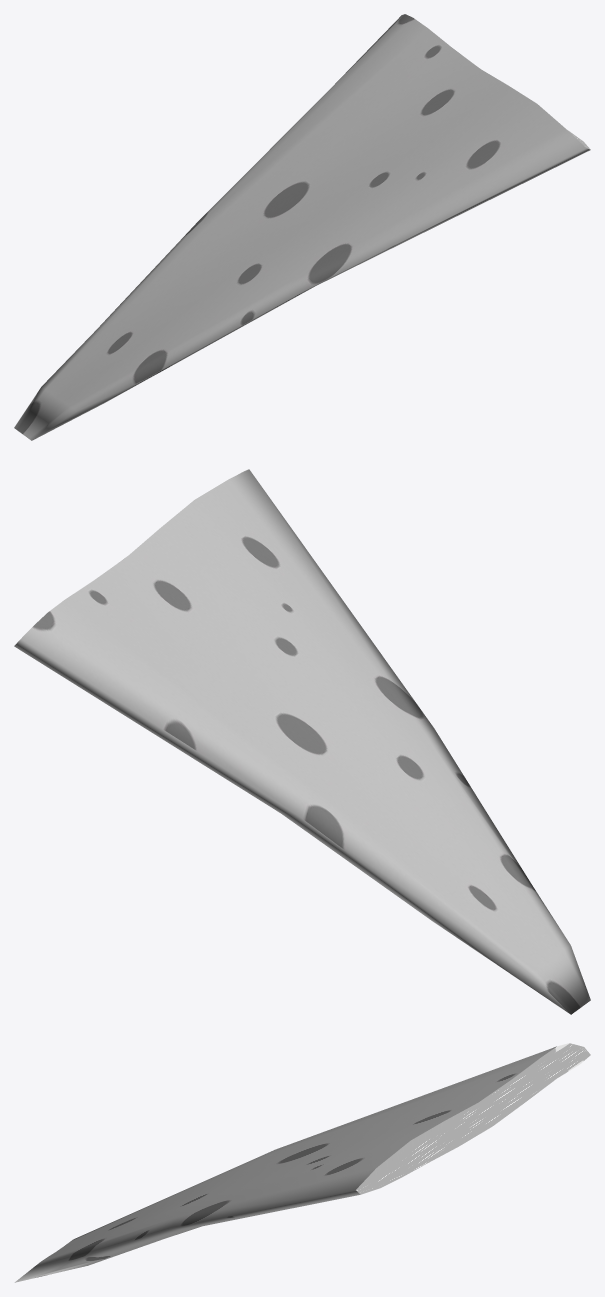
The model's file is AletaInfDerManta.obj.
3 renders of one model, top to bottom at view 1: azimuth 30°, elevation 25°; view 2: azimuth 150°, elevation 25°; view 3: azimuth 330°, elevation 25°, orthographic. The views are drawn at different scales.
Parts seen in each view (by area): view 1: AletaInfDer; view 2: AletaInfDer; view 3: AletaInfDer.
Part boxes in pixels (x1=…): AletaInfDer: x1=14, y1=14, x2=590, y2=440; AletaInfDer: x1=14, y1=469, x2=590, y2=1014; AletaInfDer: x1=14, y1=1043, x2=590, y2=1282.
Bounding box in the file's own units: 15.57 × 9.58 × 11.82.
Materials: 2 (2 with a texture image).
